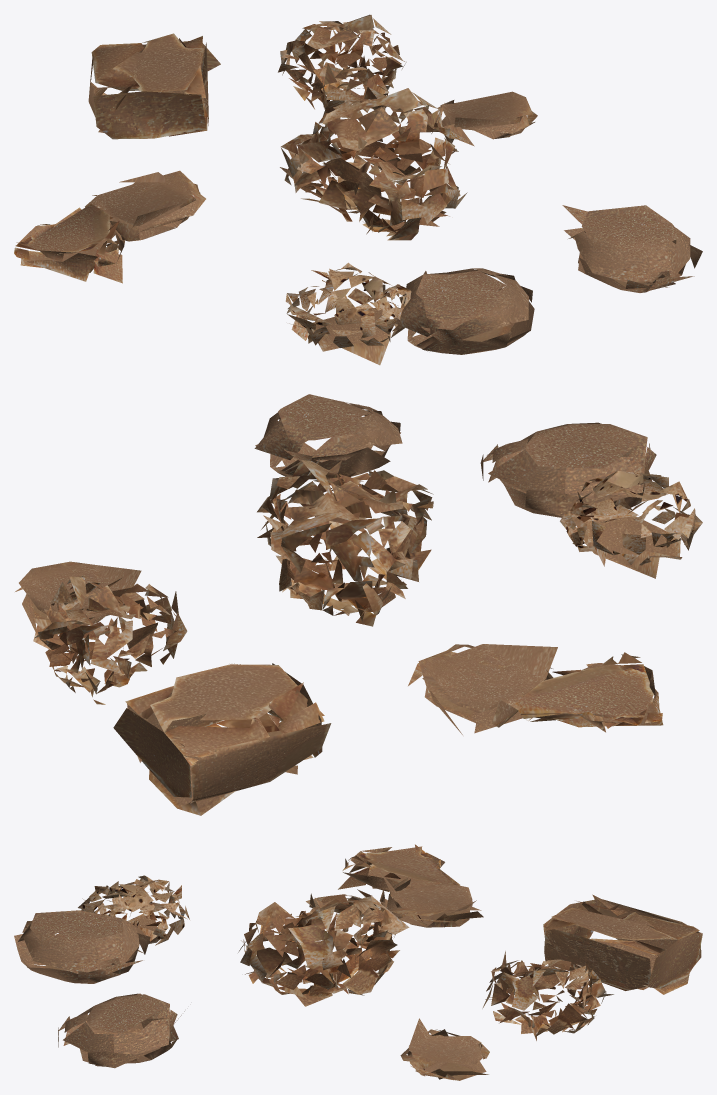
File: desert_pebble_scatter_lod1.glb
The picture shows the model from 3 angles, top to bottom: view 1: azimuth 30°, elevation 25°; view 2: azimuth 150°, elevation 25°; view 3: azimuth 270°, elevation 25°; orthographic projection. The views are drawn at different scales.
Parts seen in each view (by area): view 1: desert_pebble_scatter.001; view 2: desert_pebble_scatter.001; view 3: desert_pebble_scatter.001.
Boxes of the visible parts, bbox=[...] form: desert_pebble_scatter.001: bbox=[14, 14, 702, 365]; desert_pebble_scatter.001: bbox=[15, 394, 702, 815]; desert_pebble_scatter.001: bbox=[14, 844, 702, 1080].
Bounding box in the file's own units: 5.26 × 1.28 × 6.64.
6 materials, 6 textured.
